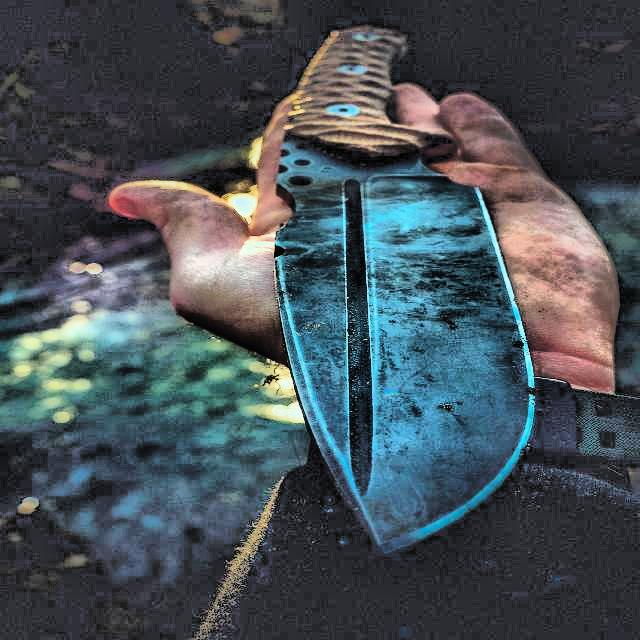knife: (263, 15, 547, 559)
